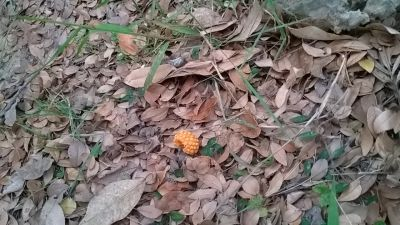eggs: (175, 129, 201, 156)
